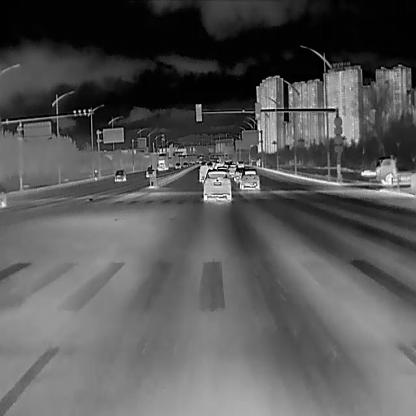car: (203, 168, 232, 201), (240, 168, 259, 190), (156, 153, 168, 170), (199, 165, 210, 182), (233, 168, 244, 184), (113, 168, 126, 181), (227, 164, 236, 177), (146, 166, 154, 177), (237, 160, 243, 169), (174, 161, 181, 168)
truck: (375, 154, 415, 186)
